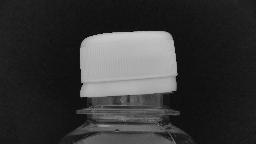Broken Cap: (69, 28, 187, 118)
Loose Cap: (73, 74, 181, 118)
